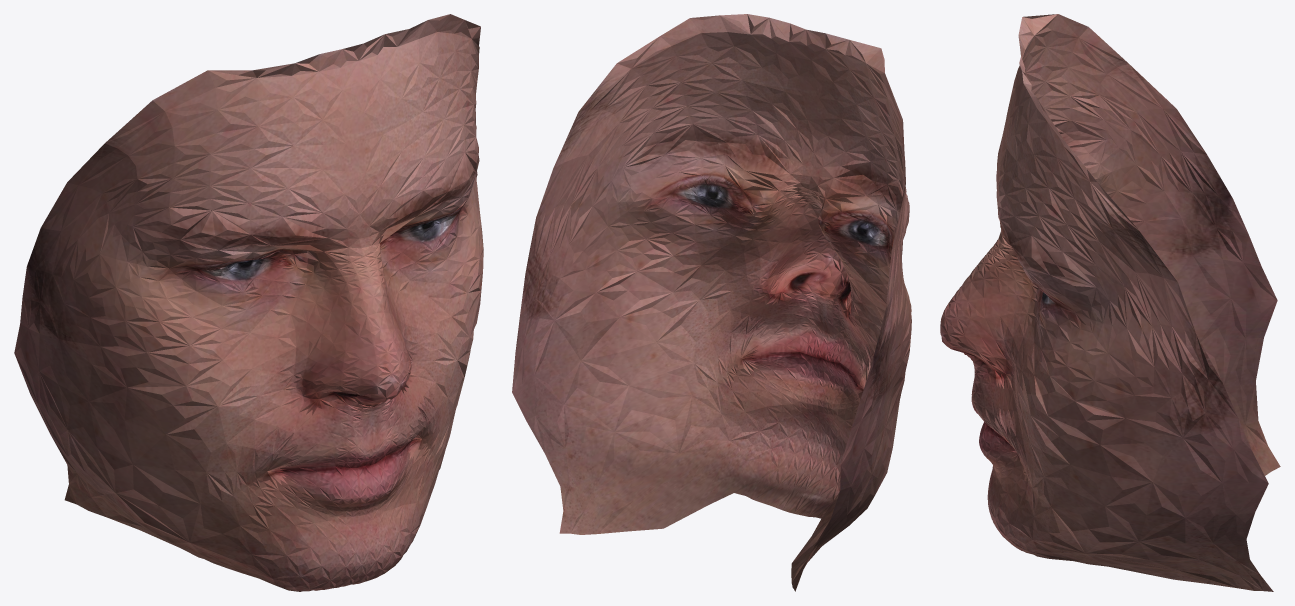
Rendered from M1004_N_conf.obj.
3 views of the same model, side by side, from view 1: azimuth 30°, elevation 25°; view 2: azimuth 150°, elevation 25°; view 3: azimuth 270°, elevation 25° (orthographic). The views are drawn at different scales.
Parts seen in each view (by area): view 1: Object0; view 2: Object0; view 3: Object0.
Part boxes in pixels (x1,y1,x2,y2): Object0: (14,14,483,591); Object0: (512,14,911,591); Object0: (940,14,1280,591).
Size of the model in its own units: 147 by 186 by 116.
Materials: 1 (1 with a texture image).
